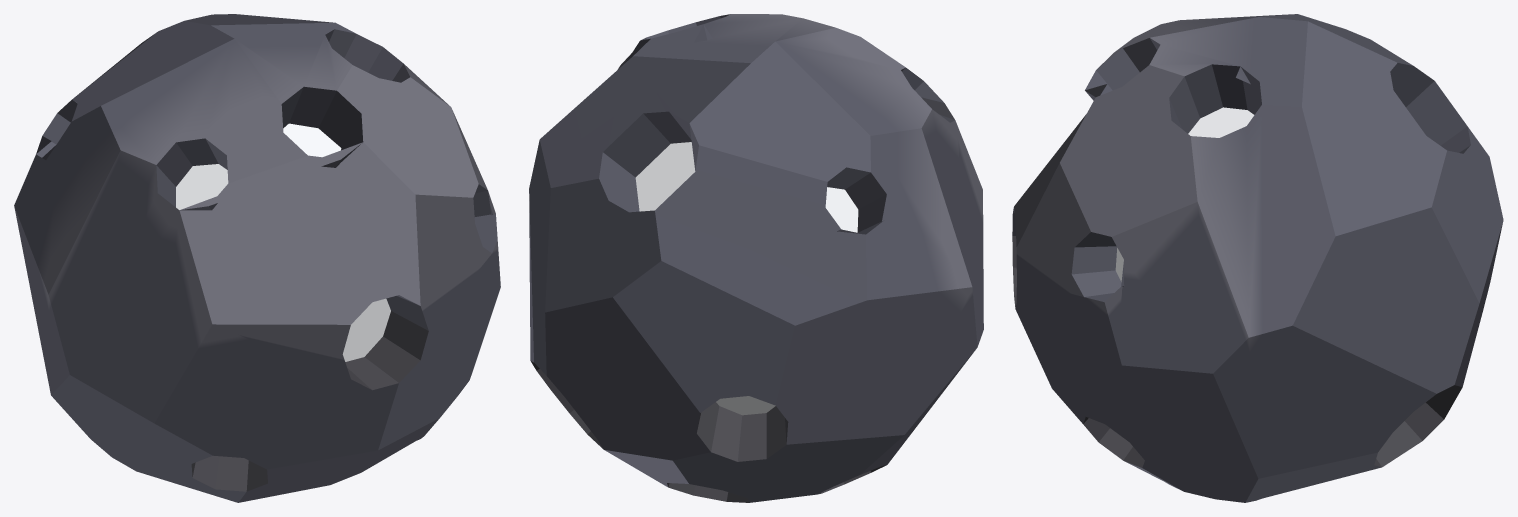
3 views of the same model, side by side, from view 1: azimuth 30°, elevation 25°; view 2: azimuth 150°, elevation 25°; view 3: azimuth 270°, elevation 25° (orthographic).
Visible parts, largest first — view 1: Sphere.008_Asteroid_0; view 2: Sphere.008_Asteroid_0; view 3: Sphere.008_Asteroid_0.
Part boxes in pixels (bbox=[...]): Sphere.008_Asteroid_0: bbox=[14, 14, 500, 502]; Sphere.008_Asteroid_0: bbox=[529, 14, 983, 502]; Sphere.008_Asteroid_0: bbox=[1012, 14, 1503, 502].
Size of the model in its own units: 0.7962 by 0.7906 by 0.7846.
Materials: 1 (1 with a texture image).
